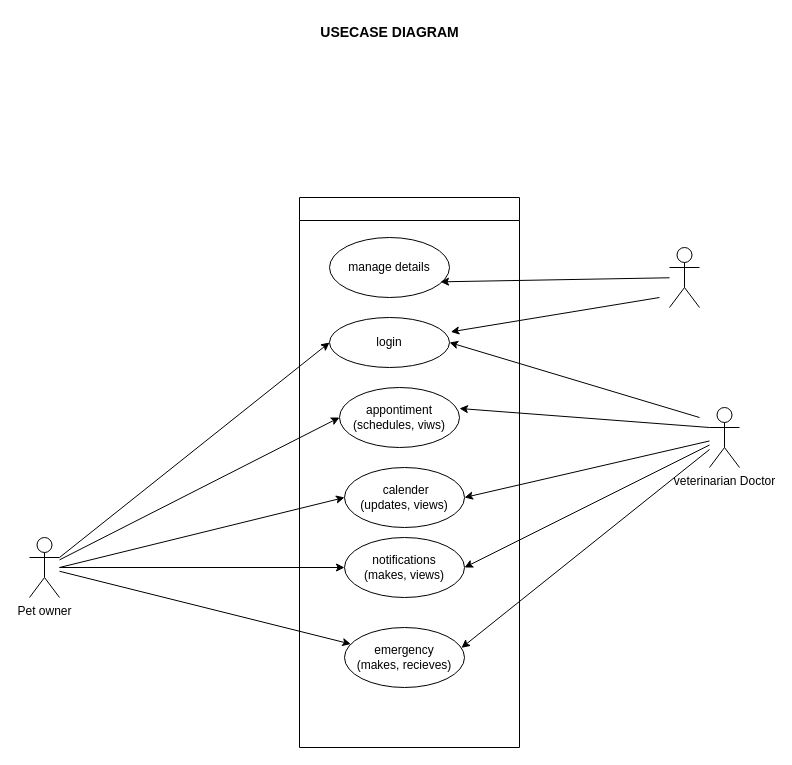
Some shapes in this 792 by 765 pixel diagram are drawn without their labels. The shapes that lost their labels are listed below. From the top down, each one's centre as x and y in pixels, then its label:
At point 684,277: "admin".
At point 409,472: "FUZZYFI".
